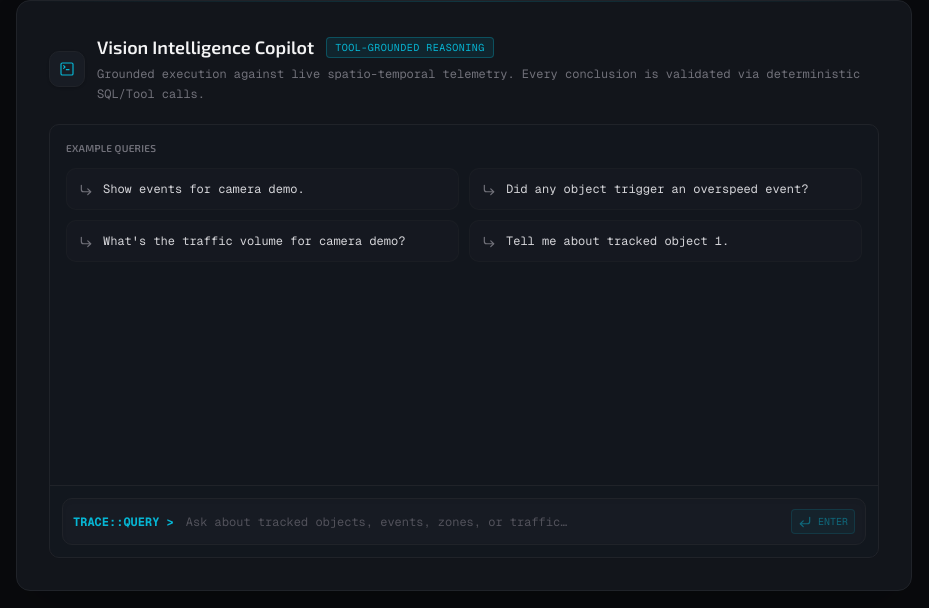
Test: VisionAgentView › does not show a "Related incidents" section when no tool result carried real events
Click the button "What's the traffic volume for camera demo?" at (262, 241), box [66,220,459,262]
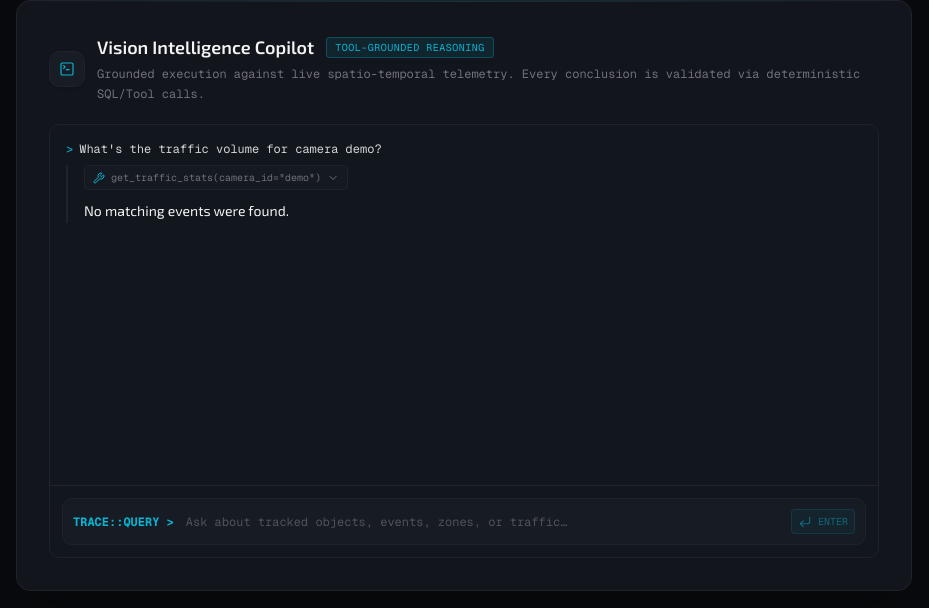
Now the text "No matching events were found." is shown, box [84,202,289,219]
